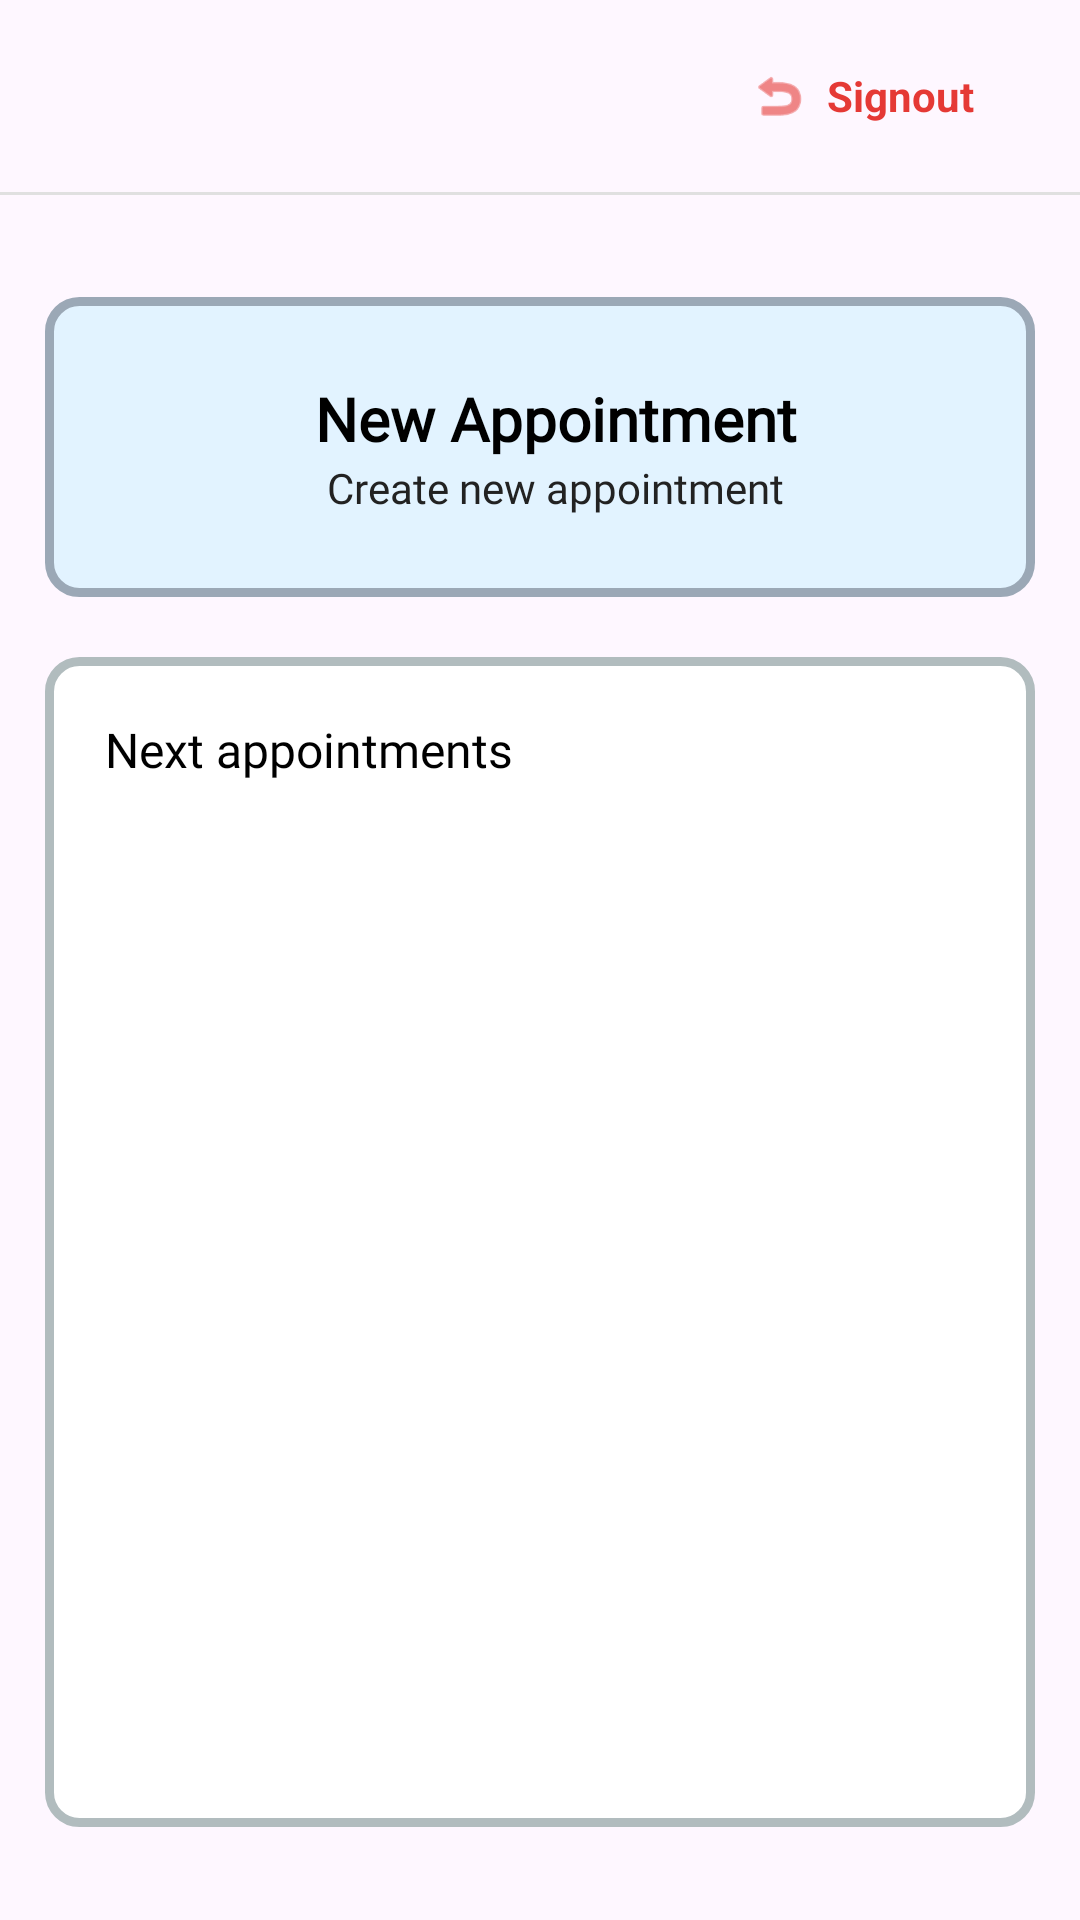

Screen size 1080 × 1920. Icon name, then its center in pixels as (x,y):
revert: (779,96)
